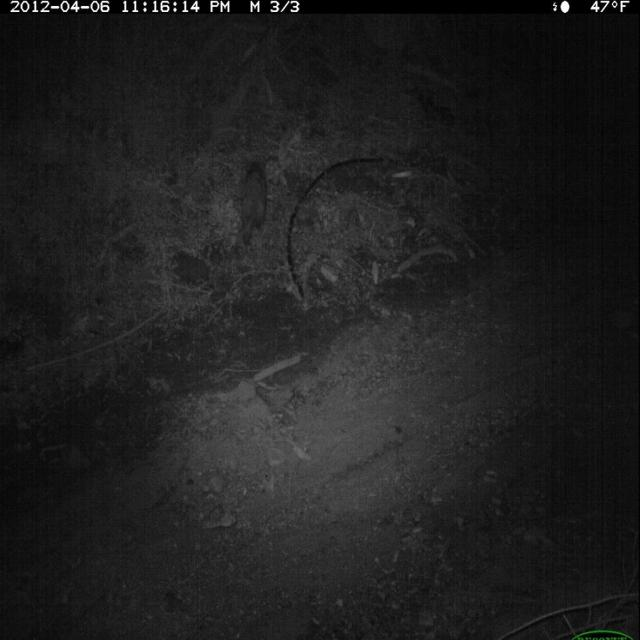opossum: (233, 158, 274, 258)
